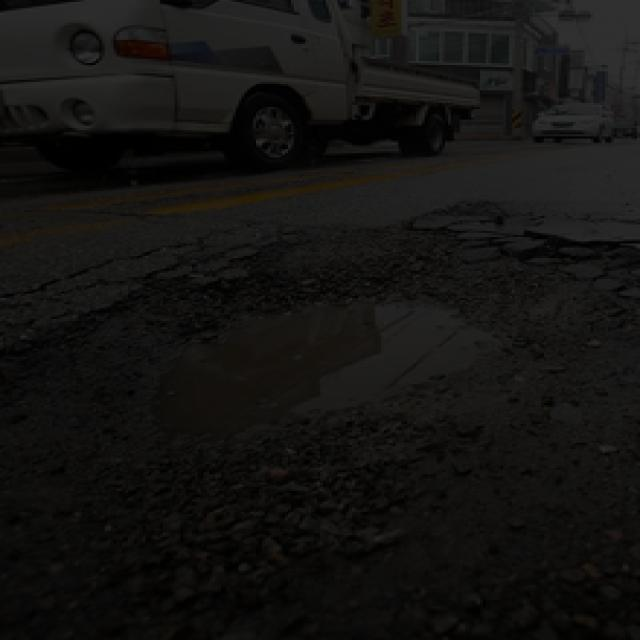pothole: (110, 274, 525, 436)
